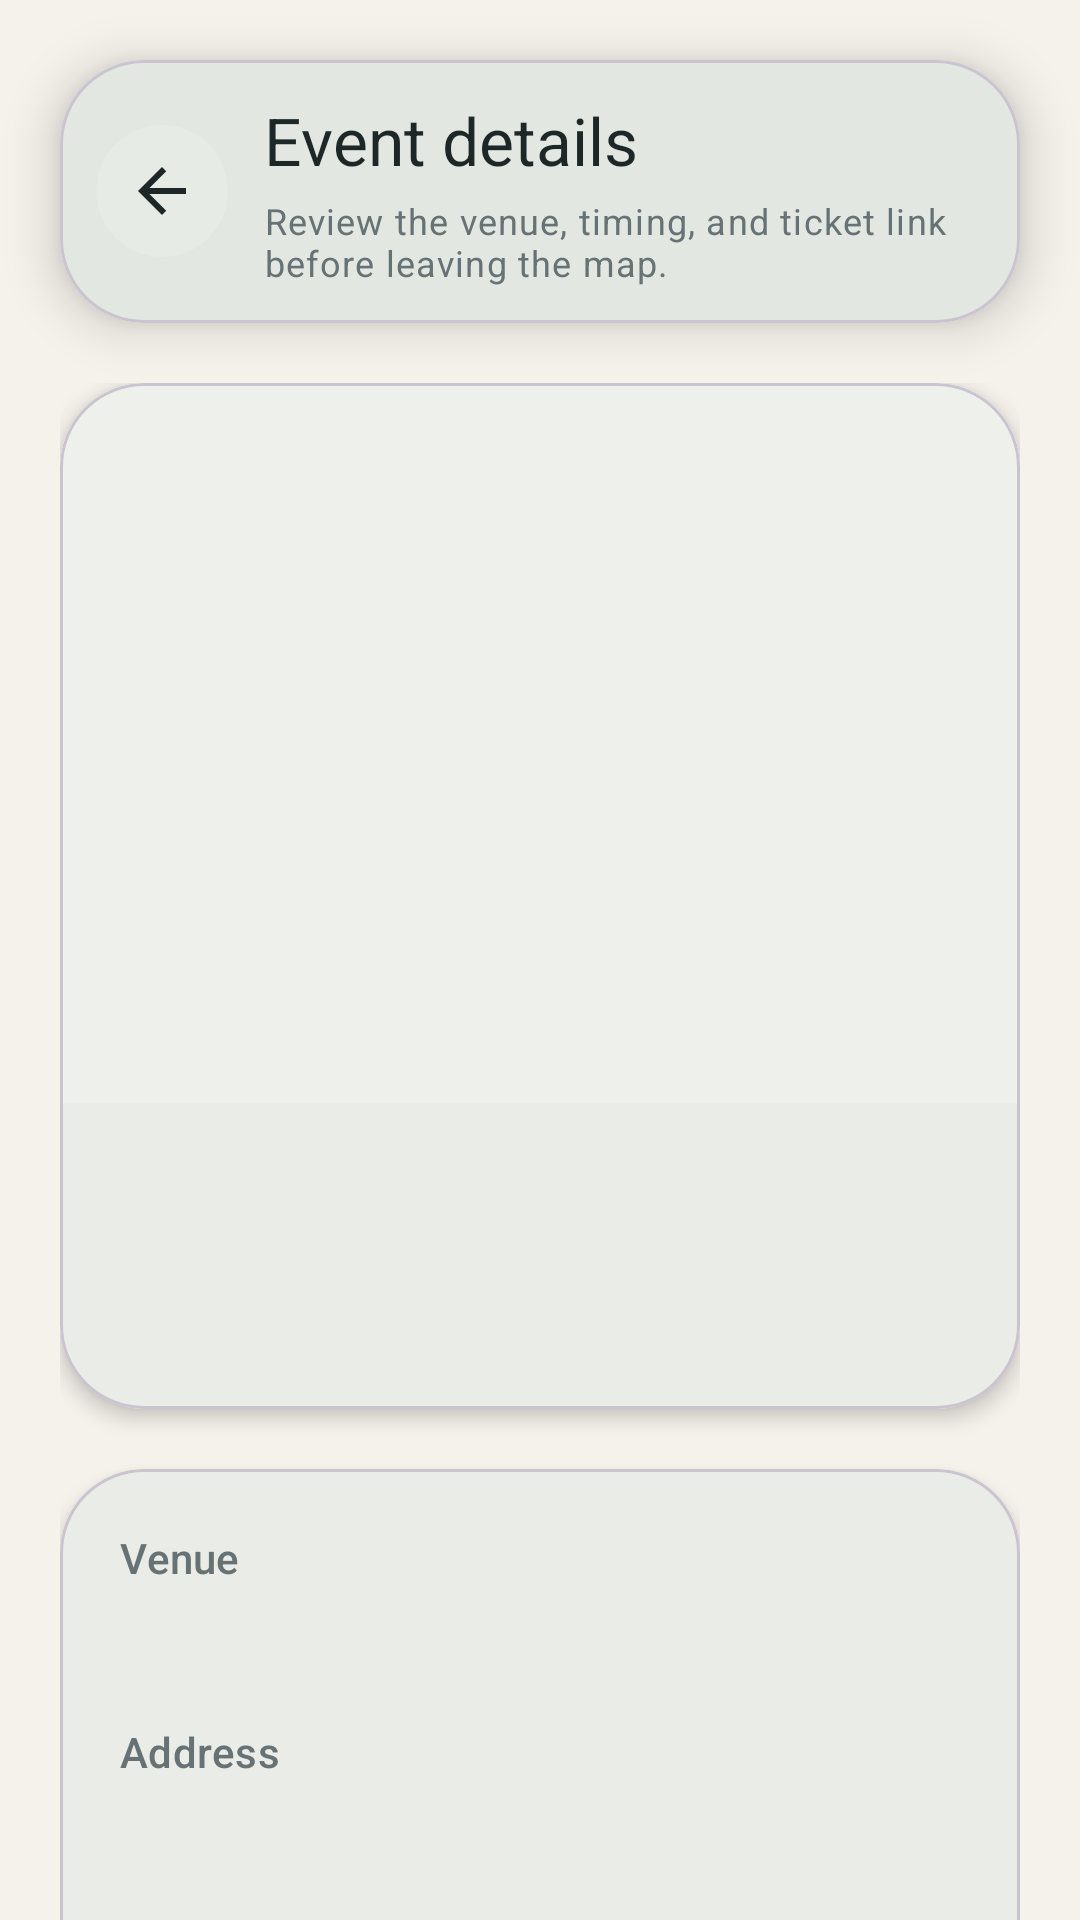

Icon click points for this 1080x1920 phone screenshot, format [x,y]:
Back: [162,191]
